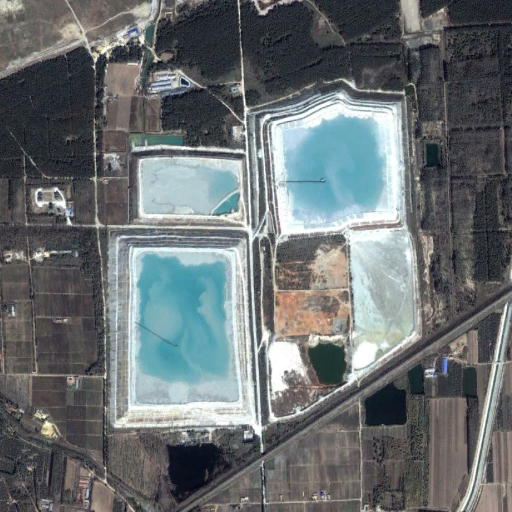tp: (108, 83, 423, 434)
